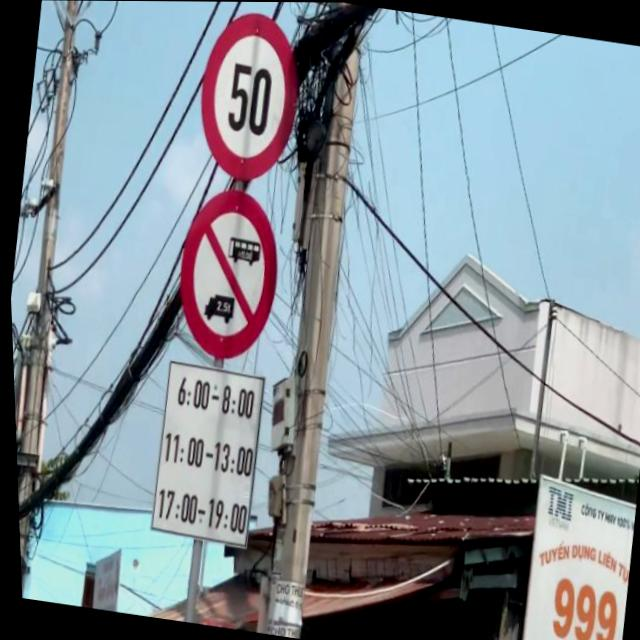Toc do toi da cho phep: (185, 5, 312, 188)
